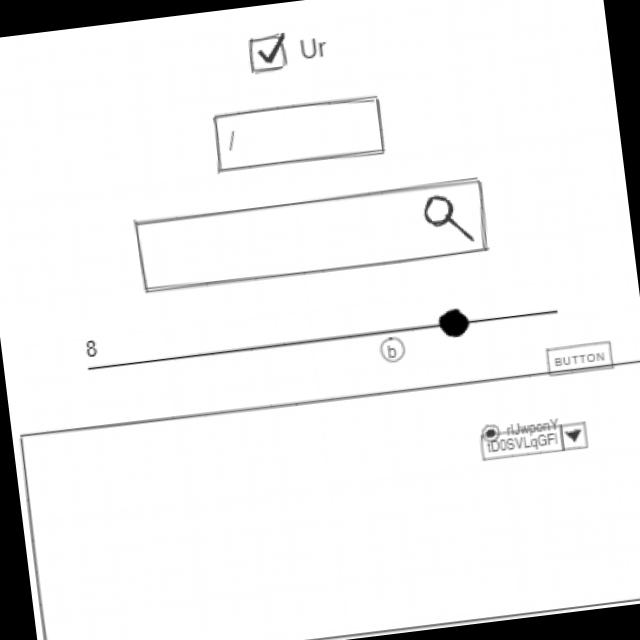button: (543, 337, 619, 381)
checkbox: (245, 25, 335, 78)
container: (13, 353, 640, 640)
icon-button: (378, 336, 410, 367)
input: (208, 89, 390, 178)
radio: (481, 413, 562, 443)
search: (131, 174, 495, 300)
select: (478, 419, 592, 464)
slider: (101, 296, 562, 381)
